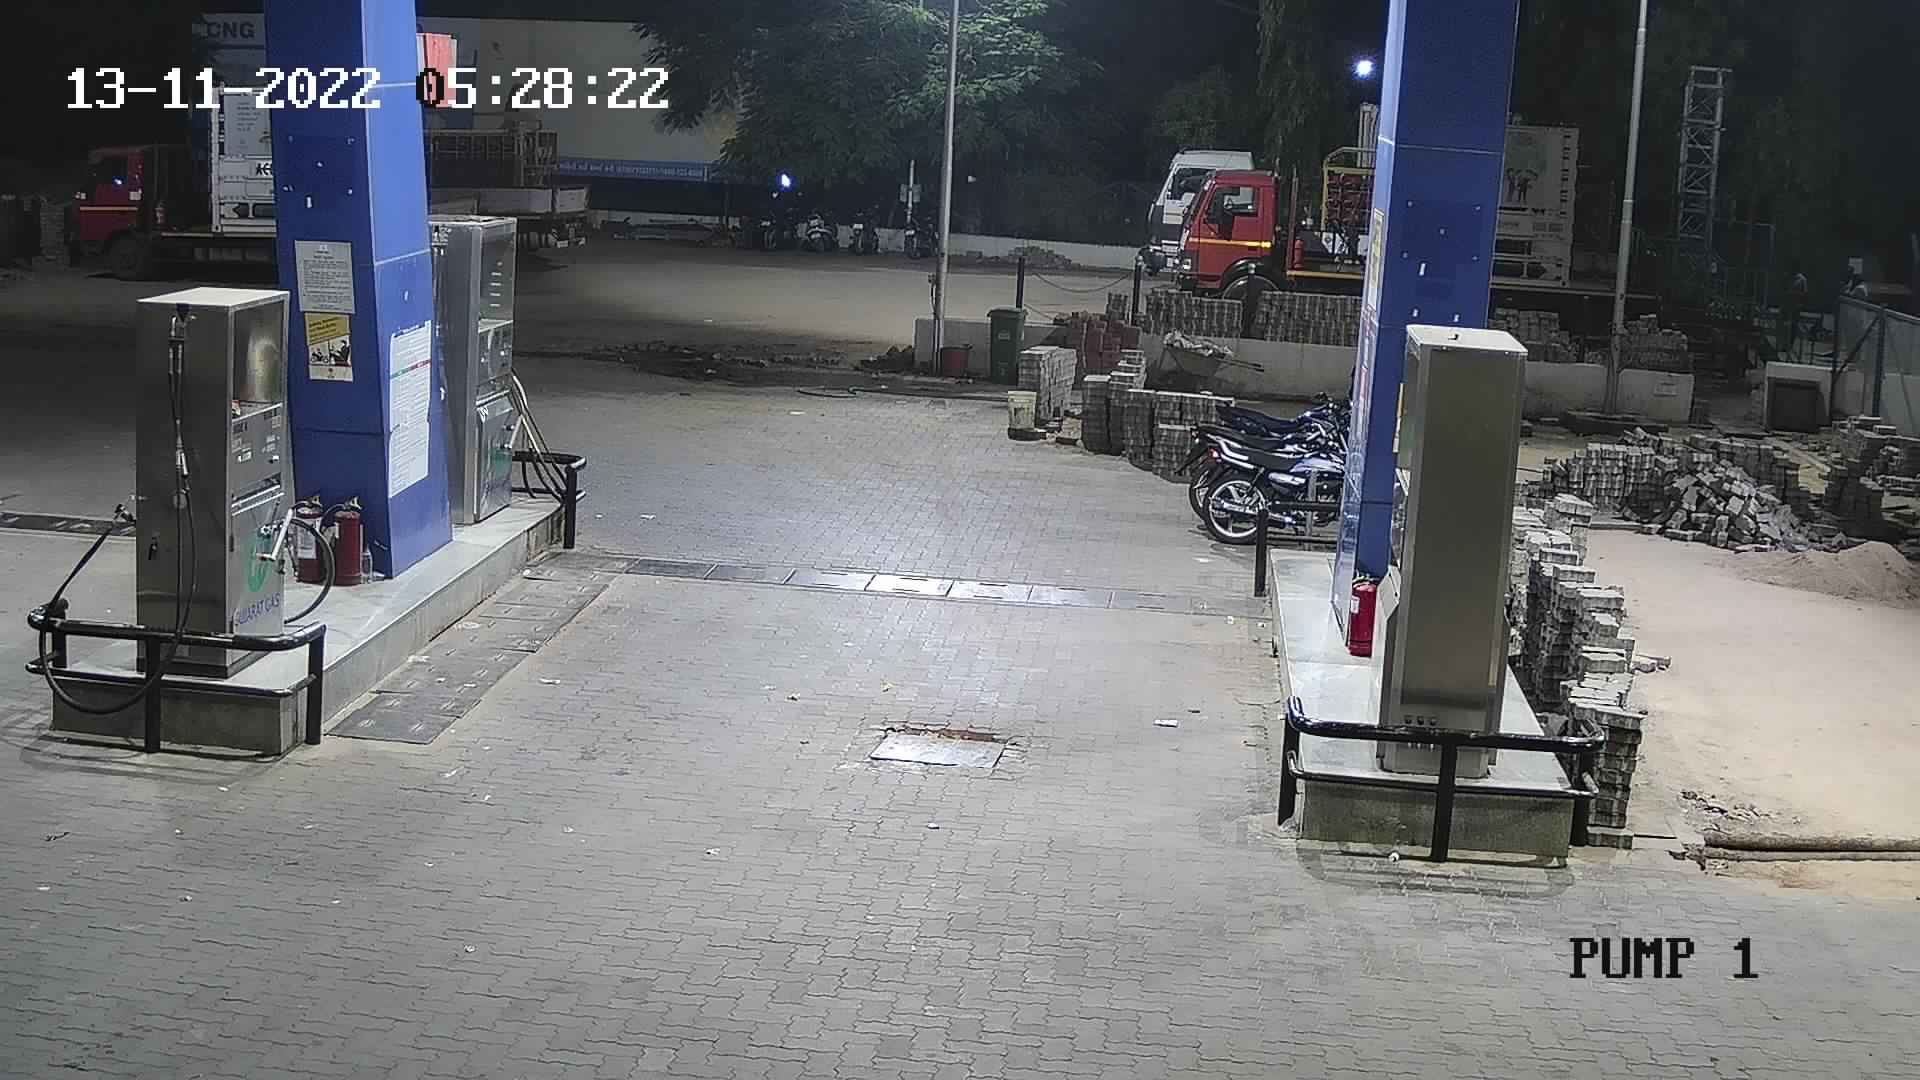Bike: (1175, 377, 1358, 564), (741, 187, 803, 255), (895, 191, 947, 266), (845, 194, 895, 262), (798, 193, 848, 260)
HMV: (1127, 92, 1383, 286), (61, 80, 284, 284), (1174, 138, 1386, 339), (406, 84, 599, 266)
